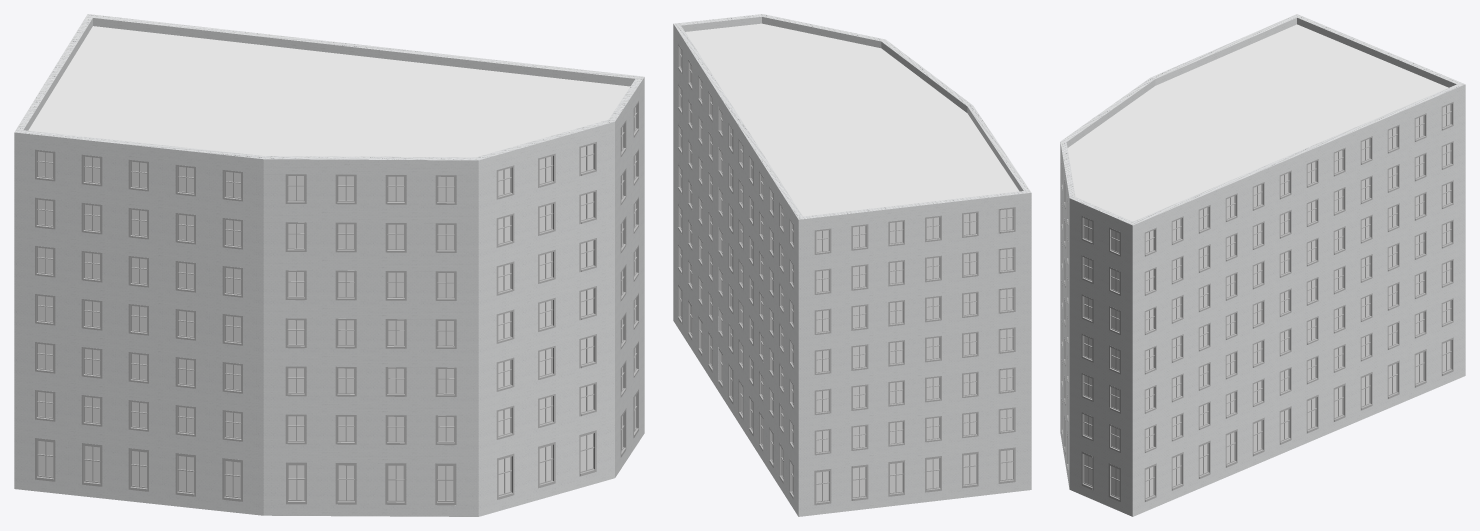
The model's file is clohc6uh503ot4p02qewsogqc_0.glb.
The picture shows the model from 3 angles, left to right: view 1: azimuth 30°, elevation 25°; view 2: azimuth 150°, elevation 25°; view 3: azimuth 270°, elevation 25°; orthographic projection. The views are drawn at different scales.
Visible parts, largest first — view 1: mesh_Brick, mesh_CityEnginePBRShader, mesh_Rim, mesh_Glass; view 2: mesh_Brick, mesh_CityEnginePBRShader, mesh_Rim, mesh_Glass; view 3: mesh_Brick, mesh_CityEnginePBRShader, mesh_Rim, mesh_Glass.
Boxes of the visible parts, <box> form: mesh_Brick: <box>14,14,644,516</box>; mesh_CityEnginePBRShader: <box>28,26,630,157</box>; mesh_Rim: <box>35,101,638,505</box>; mesh_Glass: <box>38,107,635,500</box>; mesh_Brick: <box>673,14,1031,516</box>; mesh_CityEnginePBRShader: <box>685,23,1018,216</box>; mesh_Rim: <box>678,44,1015,505</box>; mesh_Glass: <box>680,49,1012,501</box>; mesh_Brick: <box>1060,14,1465,516</box>; mesh_CityEnginePBRShader: <box>1067,24,1448,221</box>; mesh_Rim: <box>1061,102,1453,501</box>; mesh_Glass: <box>1084,104,1450,497</box>.
Size of the model in its own units: 40.77 by 26.2 by 33.01.
4 materials, 1 textured.
